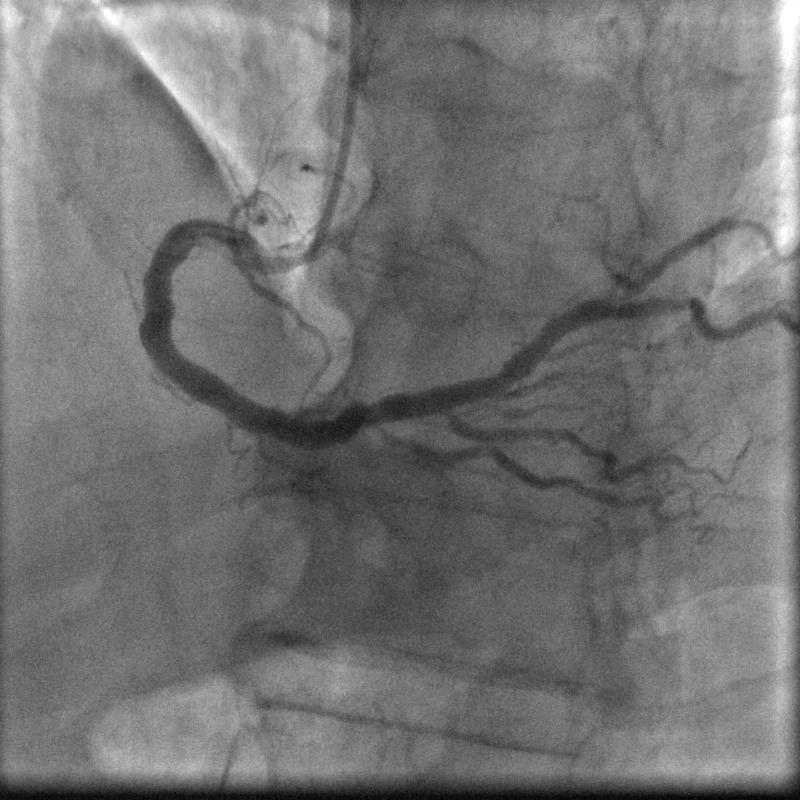Stenosis: (648, 287, 703, 313)
